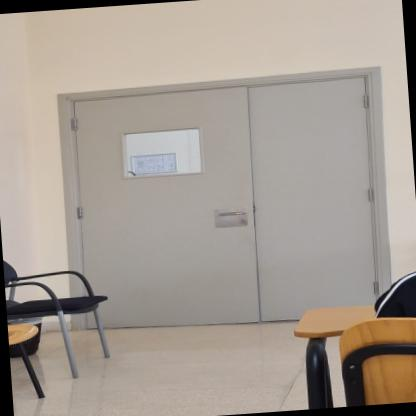closed: (43, 63, 404, 370)
